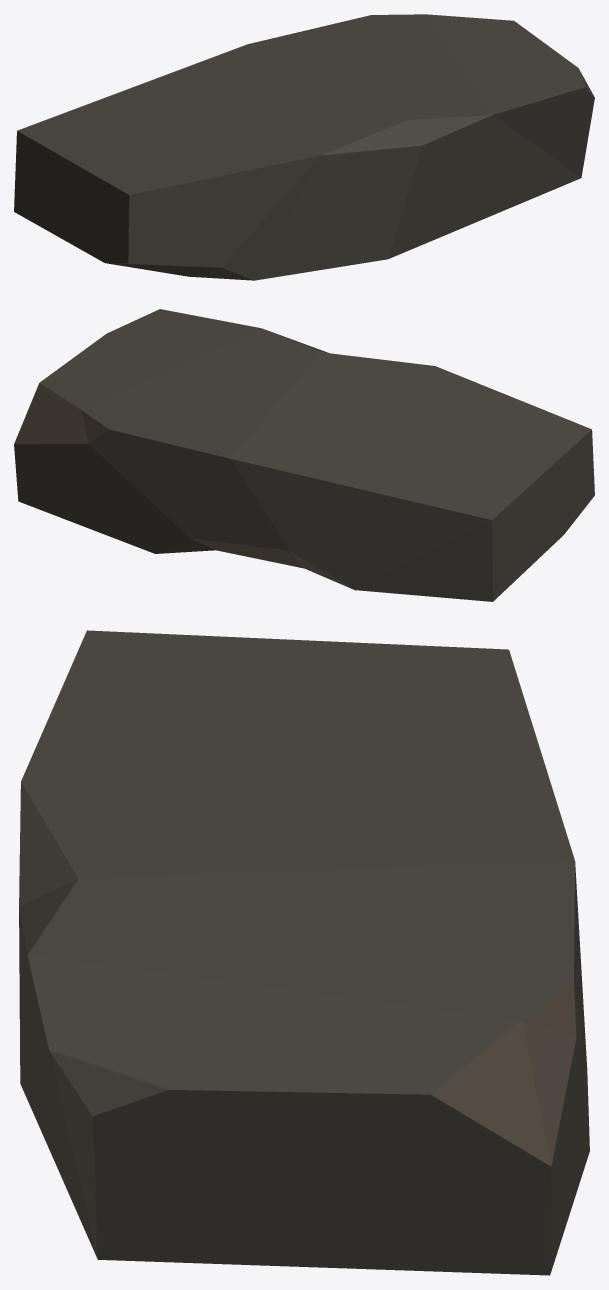
Rendered from synty-prop-brick-01.gltf.
The picture shows the model from 3 angles, top to bottom: view 1: azimuth 30°, elevation 25°; view 2: azimuth 150°, elevation 25°; view 3: azimuth 270°, elevation 25°; orthographic projection. The views are drawn at different scales.
Visible parts, largest first — view 1: SM_Prop_Brick_01; view 2: SM_Prop_Brick_01; view 3: SM_Prop_Brick_01.
Part boxes in pixels (x1,y1,x2,y2): SM_Prop_Brick_01: (14,14,594,280); SM_Prop_Brick_01: (14,309,594,601); SM_Prop_Brick_01: (19,630,589,1275).
Size of the model in its own units: 0.7696 by 0.1841 by 0.4012.
1 material, 1 textured.
